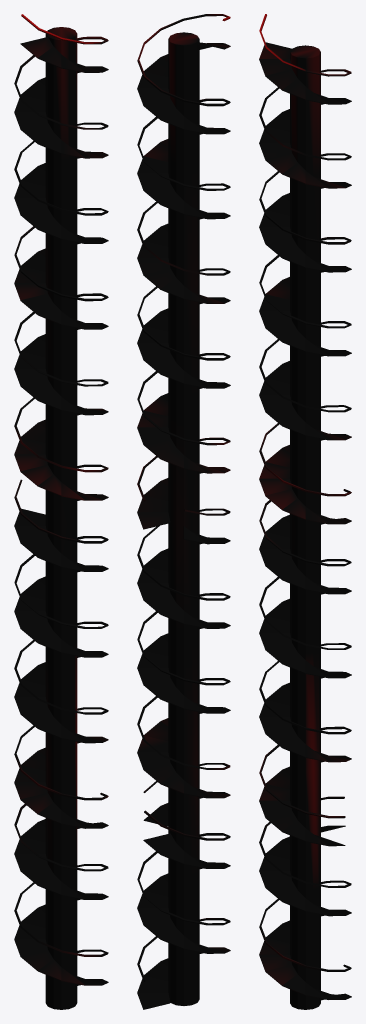
Rendered from StairwellTowerCollision_export.obj.
3 renders of one model, left to right at view 1: azimuth 30°, elevation 25°; view 2: azimuth 150°, elevation 25°; view 3: azimuth 330°, elevation 25°, orthographic.
Visible parts, largest first — view 1: StairwellTowerCollision; view 2: StairwellTowerCollision; view 3: StairwellTowerCollision.
Part boxes in pixels (bbox=[...]): StairwellTowerCollision: bbox=[14, 14, 108, 1009]; StairwellTowerCollision: bbox=[137, 14, 230, 1009]; StairwellTowerCollision: bbox=[259, 14, 351, 1009].
Size of the model in its own units: 3.01 by 35.05 by 3.01.
